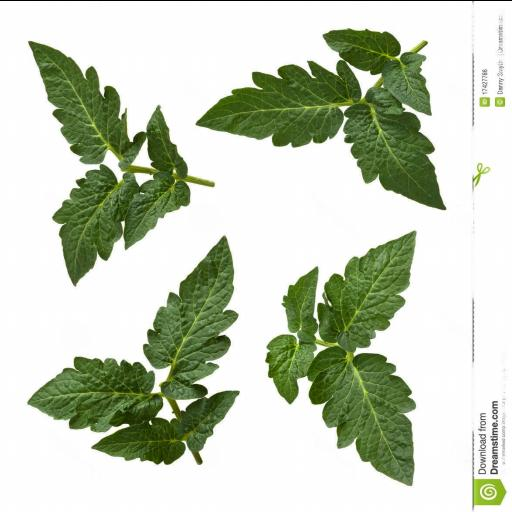Healthy: (140, 235, 240, 399), (307, 344, 417, 486), (28, 38, 146, 164), (194, 58, 362, 146), (342, 86, 448, 210), (317, 230, 417, 352), (50, 162, 140, 286), (26, 354, 163, 432), (123, 170, 191, 250), (90, 417, 186, 464), (170, 388, 240, 450), (322, 27, 402, 75), (264, 333, 318, 403), (379, 50, 433, 116), (145, 103, 189, 177), (280, 264, 318, 342)
